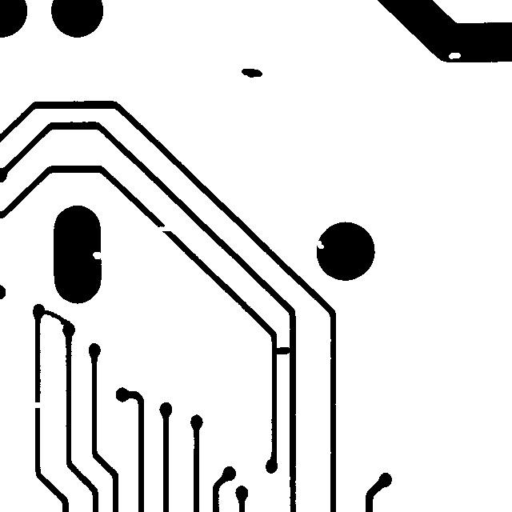copper: (234, 61, 270, 85)
mousebite: (307, 233, 331, 256), (85, 244, 109, 266)
open: (22, 394, 50, 415), (149, 218, 178, 238)
pin-hole: (441, 45, 468, 66)
short: (35, 302, 78, 332), (265, 339, 299, 362)
